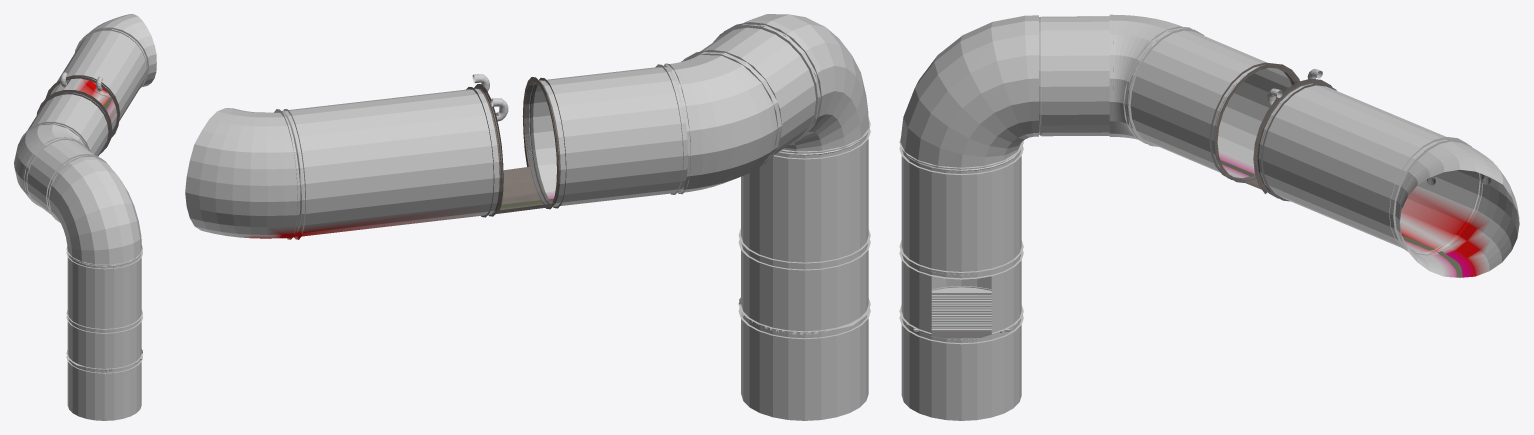
Rendered from AreaJ_Pipe_Inside_Ba.fbx.
3 views of the same model, side by side, from view 1: azimuth 30°, elevation 25°; view 2: azimuth 150°, elevation 25°; view 3: azimuth 270°, elevation 25° (orthographic). The views are drawn at different scales.
Parts seen in each view (by area): view 1: SM_ENV_AMVLLG02_AreaJ_Pipe_Inside_Ba.mo; view 2: SM_ENV_AMVLLG02_AreaJ_Pipe_Inside_Ba.mo; view 3: SM_ENV_AMVLLG02_AreaJ_Pipe_Inside_Ba.mo.
Boxes of the visible parts, x1,y1,x2,y2 form: SM_ENV_AMVLLG02_AreaJ_Pipe_Inside_Ba.mo: (14,14,156,420); SM_ENV_AMVLLG02_AreaJ_Pipe_Inside_Ba.mo: (185,14,870,420); SM_ENV_AMVLLG02_AreaJ_Pipe_Inside_Ba.mo: (899,14,1519,420).
Bounding box in the file's own units: 5381 × 5470 × 8076.
